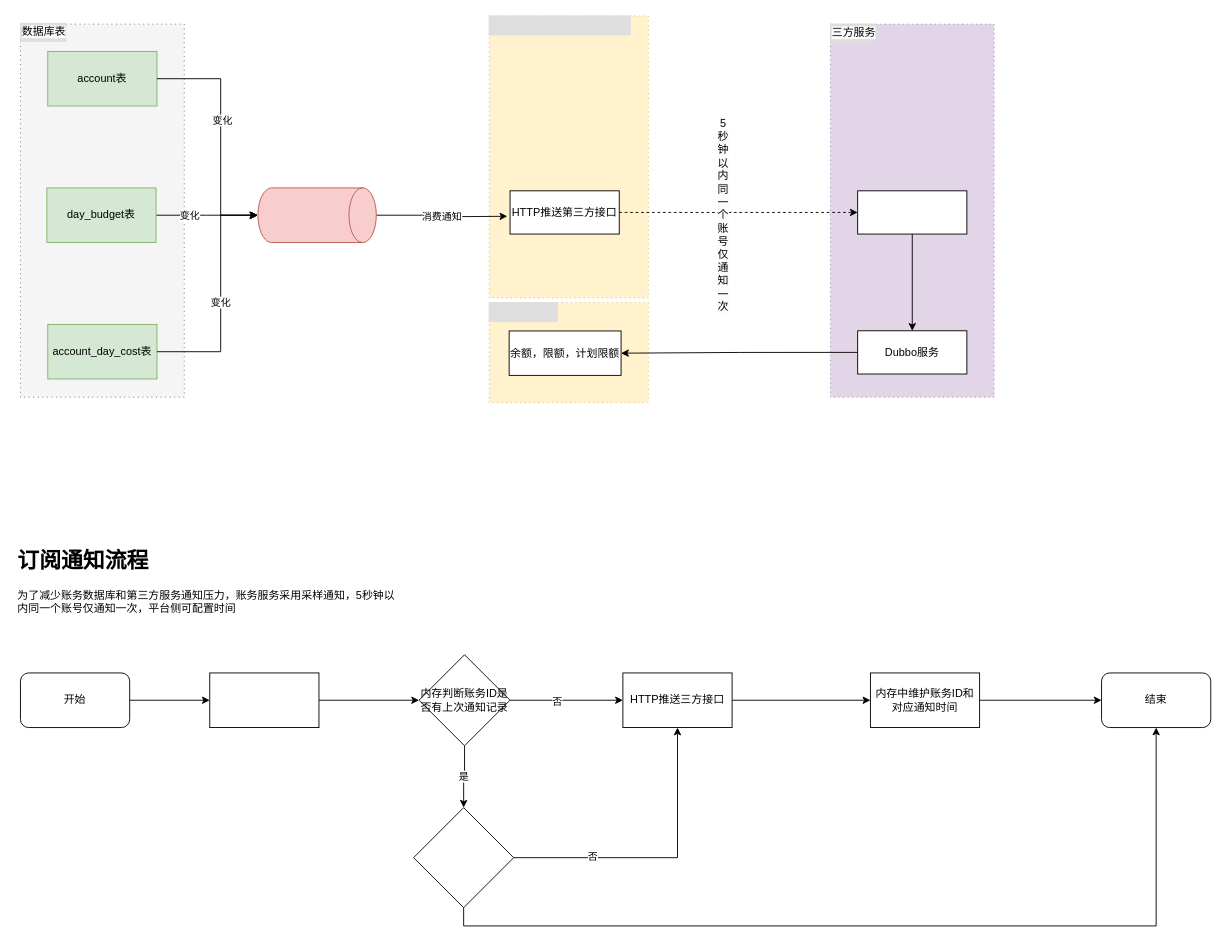
This 1227x949 diagram has some shape labels left out. Each missing label, with the centre of its shape:
"account-boss" belongs at (x=522, y=312).
"account-thirdparty-consumer" belongs at (x=559, y=25).
"RMQ消息队列" belongs at (x=316, y=215).
"判断上次通知时间是否5秒以内" belongs at (x=463, y=857).
"批量消费数据库变更记录" belongs at (x=264, y=700).
"第三方HTTP服务" belongs at (x=912, y=212).
